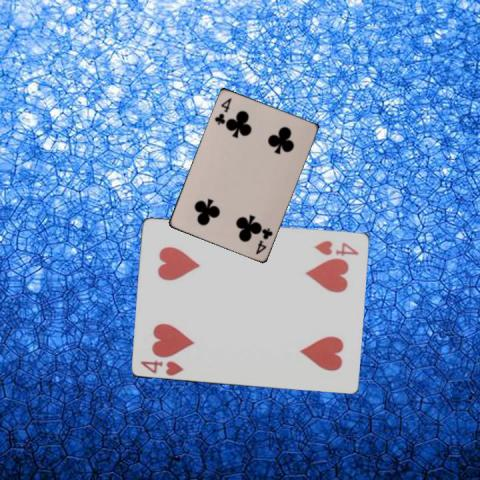4c: (211, 95, 233, 126), (253, 225, 274, 255)
4h: (138, 356, 186, 376), (312, 237, 360, 256)
